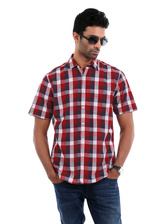clothoes: (32, 55, 135, 185)
glasses: (79, 30, 113, 47)
